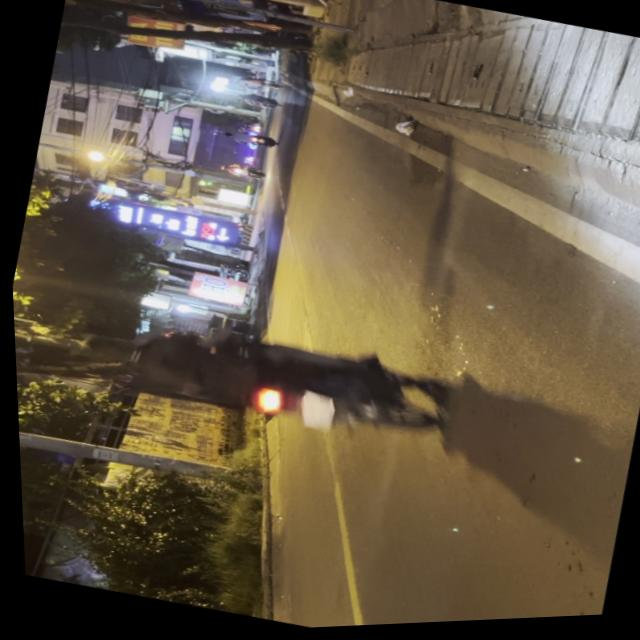licenseplate: (70, 287, 457, 473)
motorcyclist: (78, 326, 138, 373)
nohelmet: (291, 392, 332, 435)
